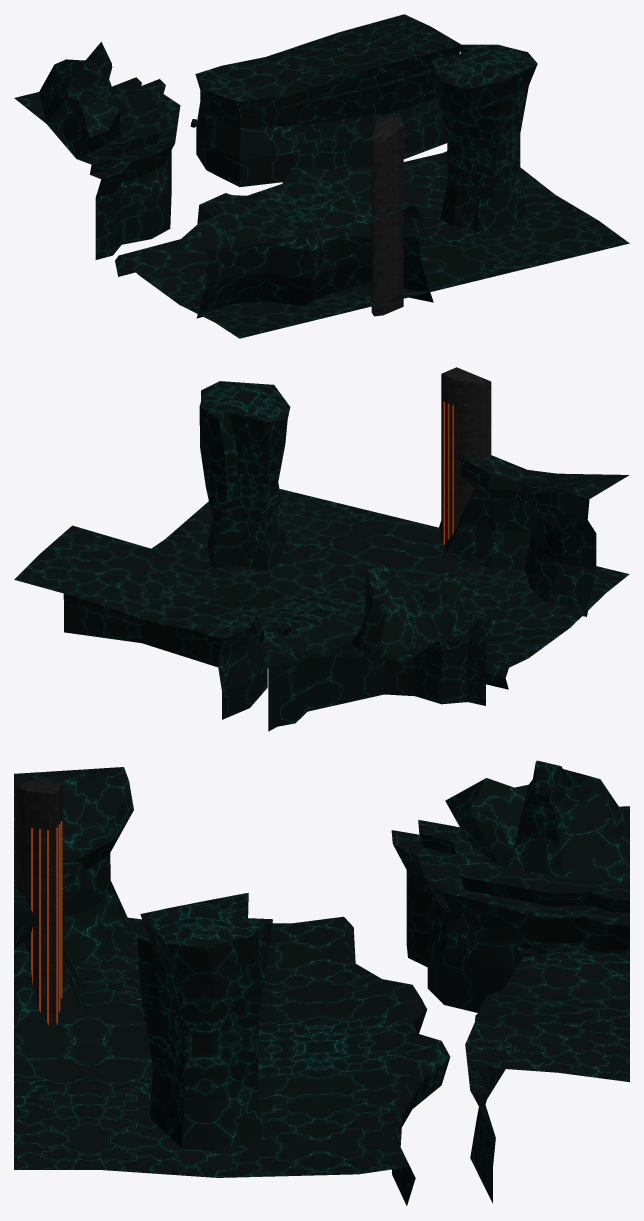
File: Sol_miror.FBX
3 views of the same model, one above another, from view 1: azimuth 30°, elevation 25°; view 2: azimuth 150°, elevation 25°; view 3: azimuth 270°, elevation 25° (orthographic). The views are drawn at different scales.
Parts seen in each view (by area): view 1: Plane003, Plane005, Plane002, Plane006, Box005; view 2: Plane003, Plane005, Plane002, Plane006, Box005, Object002; view 3: Plane005, Plane003, Plane006, Plane002, Box005, Object002.
Boxes of the visible parts, x1,y1,x2,y2 form: Plane003: (14,14,461,259); Plane005: (115,151,629,338); Plane002: (196,193,433,318); Plane006: (431,44,537,231); Box005: (371,116,403,316); Plane003: (14,525,491,731); Plane005: (151,489,629,689); Plane002: (439,455,629,616); Plane006: (199,381,290,570); Box005: (441,367,491,543); Object002: (443,402,453,544); Plane005: (14,916,450,1205); Plane003: (391,760,629,1203); Plane006: (137,892,272,1151); Plane002: (14,767,133,1036); Box005: (16,778,62,1025); Object002: (31,821,62,1024).
Bounding box in the file's own units: 254 × 122 × 254.
